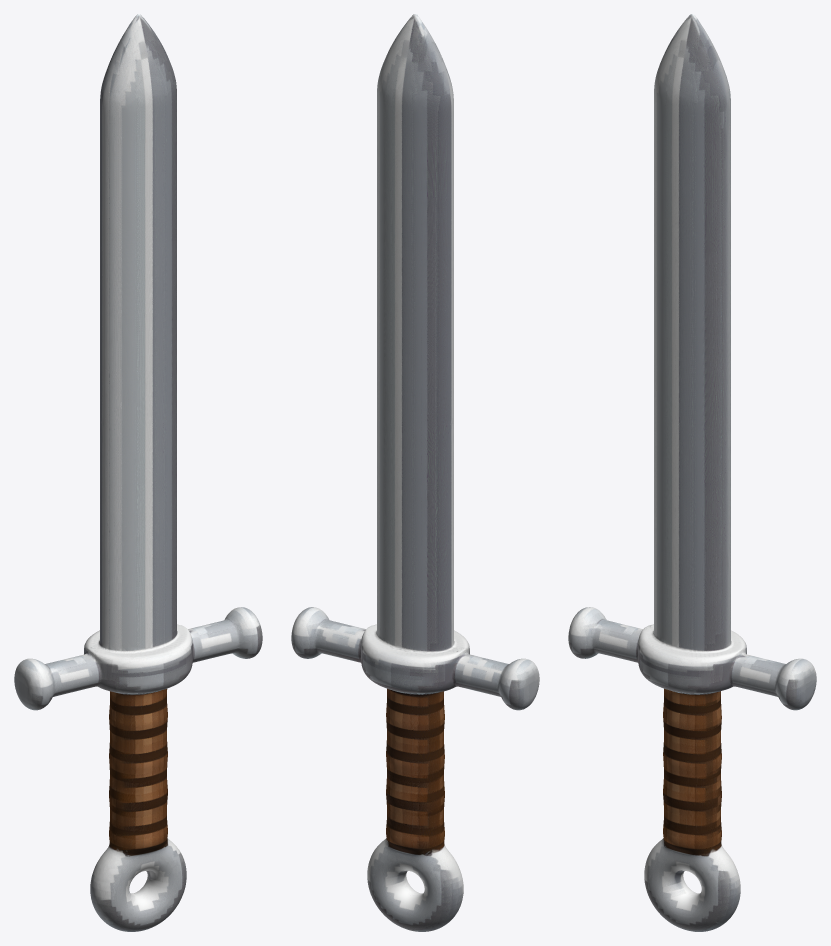
Rendered from Standard.glb.
3 views of the same model, side by side, from view 1: azimuth 30°, elevation 25°; view 2: azimuth 150°, elevation 25°; view 3: azimuth 330°, elevation 25° (orthographic).
Visible parts, largest first — view 1: Mesh_0; view 2: Mesh_0; view 3: Mesh_0.
Part boxes in pixels (bbox=[...]): Mesh_0: bbox=[14, 14, 262, 931]; Mesh_0: bbox=[291, 14, 539, 931]; Mesh_0: bbox=[568, 14, 816, 931].
Bounding box in the file's own units: 0.5052 × 1.9 × 0.187.
Materials: 1 (1 with a texture image).
